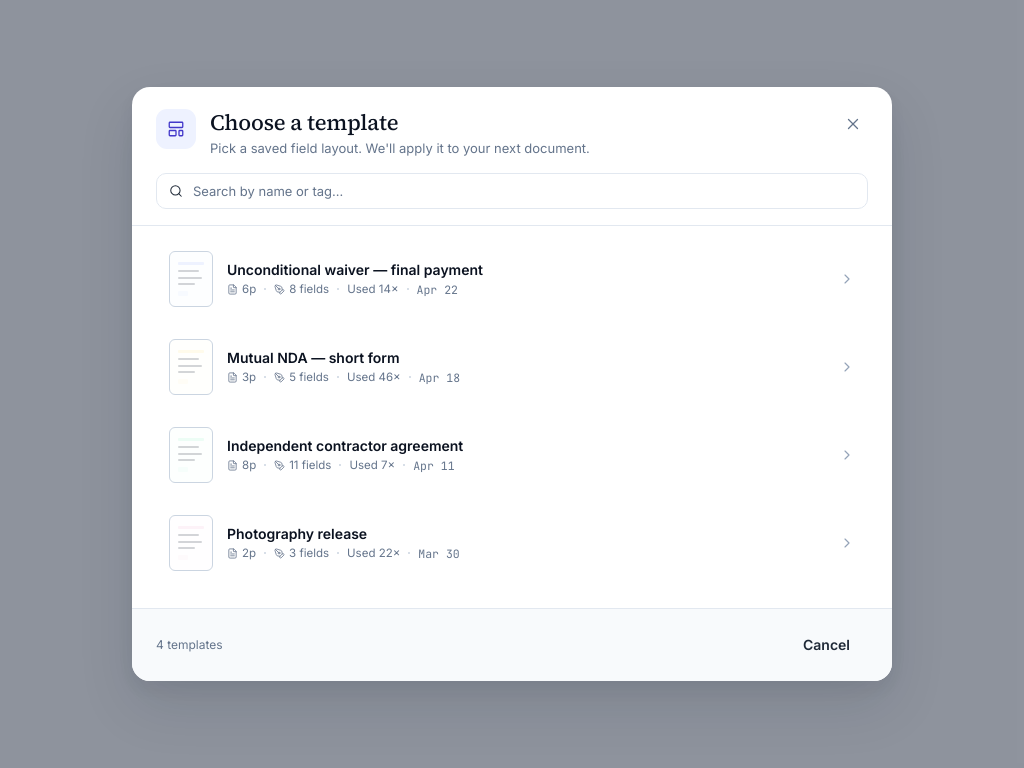
Scenario: TemplatePickerDialog › shows the empty state when nothing matches the query
Type "zzzznope" into the field named "search templates" at x=523, y=191, box [191,182,855,200]
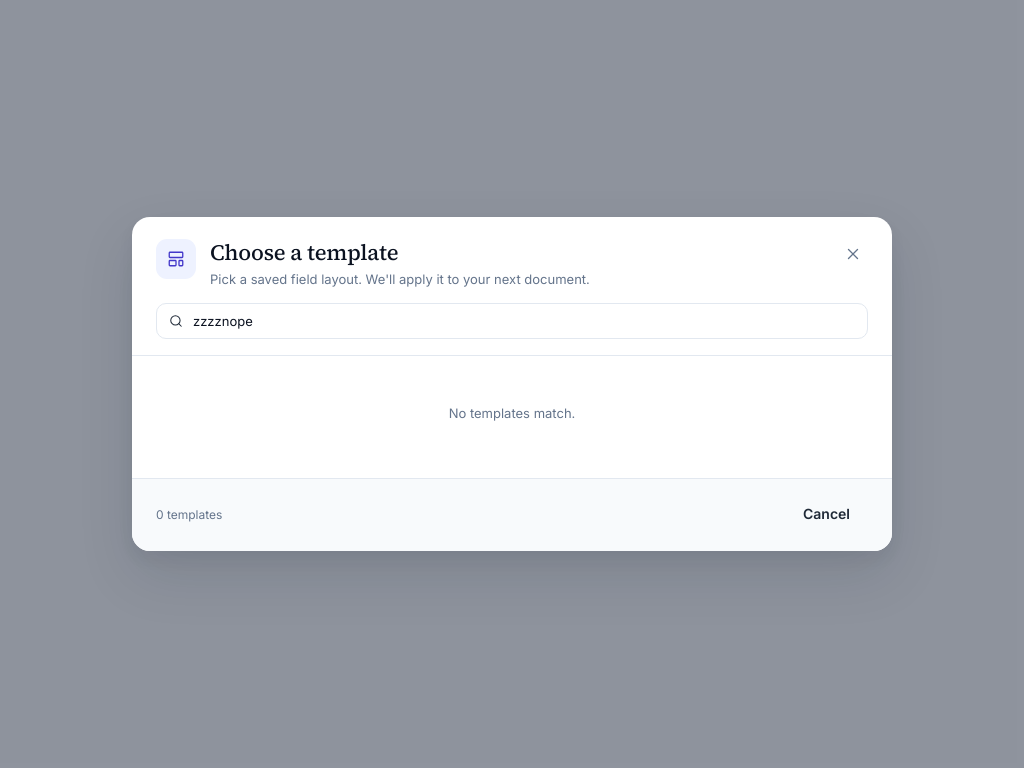
Expected: the message shows "No templates match", [449,405,575,421]
